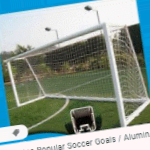goals: (5, 20, 150, 125)
